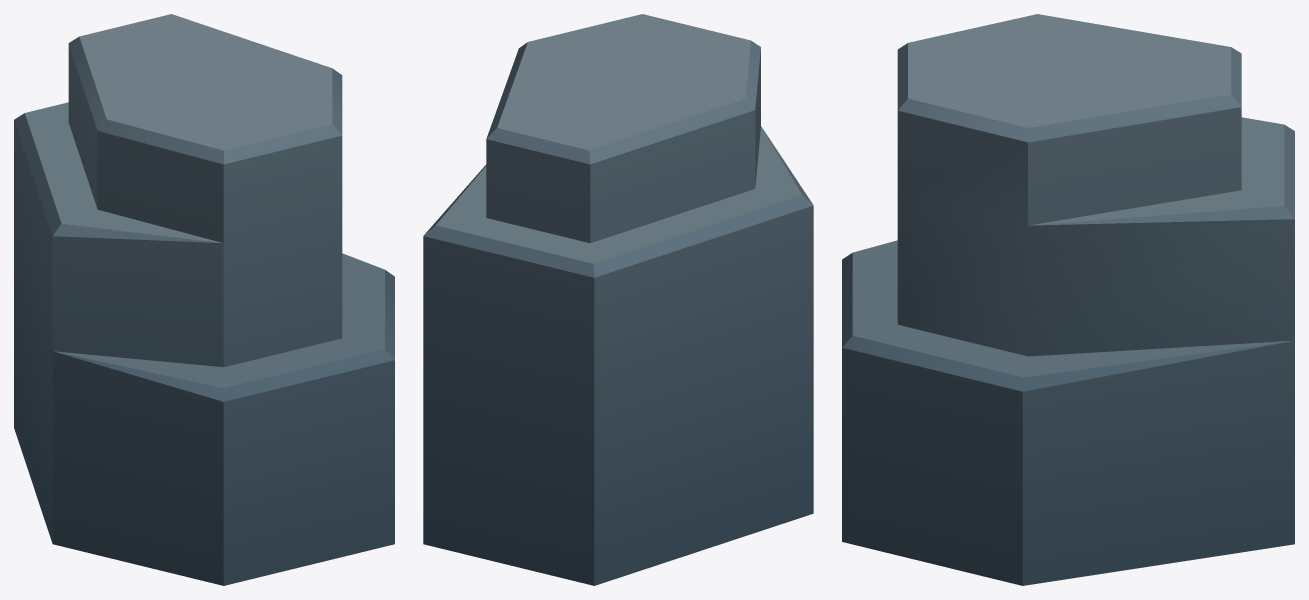
The model's file is Rock_1_E_Color4.fbx.
3 renders of one model, left to right at view 1: azimuth 30°, elevation 25°; view 2: azimuth 150°, elevation 25°; view 3: azimuth 270°, elevation 25°, orthographic. The views are drawn at different scales.
Parts seen in each view (by area): view 1: Rock_1_E_Color4; view 2: Rock_1_E_Color4; view 3: Rock_1_E_Color4.
Part boxes in pixels (x1,y1,x2,y2): Rock_1_E_Color4: [14, 14, 394, 585]; Rock_1_E_Color4: [423, 14, 813, 585]; Rock_1_E_Color4: [842, 14, 1294, 585].
Size of the model in its own units: 1 by 1.13 by 1.09.
